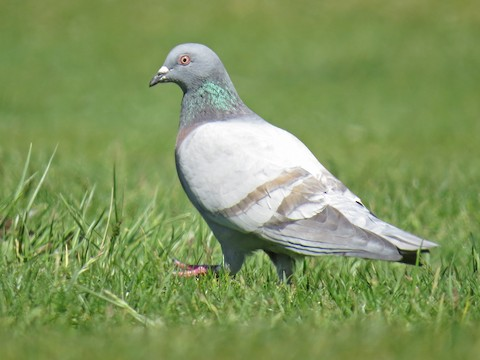pigeon: (146, 41, 443, 291)
